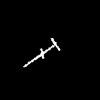double_crochet: (24, 38, 59, 66)
